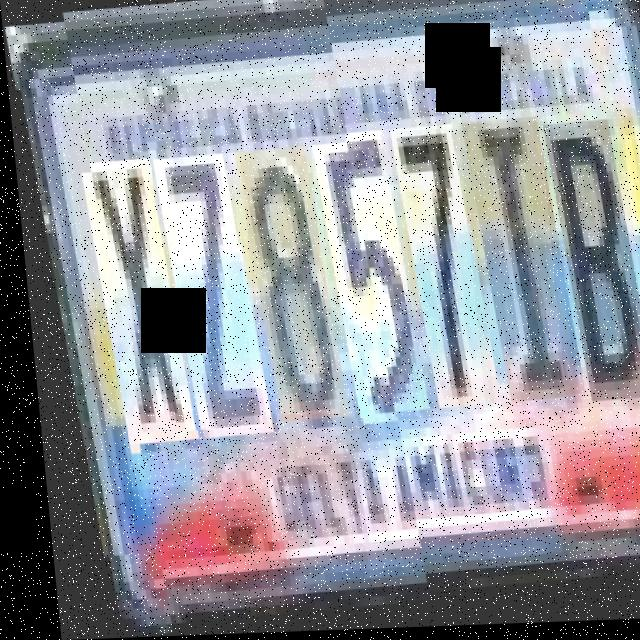5: (307, 137, 416, 421)
7: (386, 132, 486, 416)
8: (227, 142, 334, 418)
B: (537, 130, 640, 414)
I: (457, 125, 570, 411)
X: (72, 153, 182, 438)
Z: (147, 148, 257, 433)
